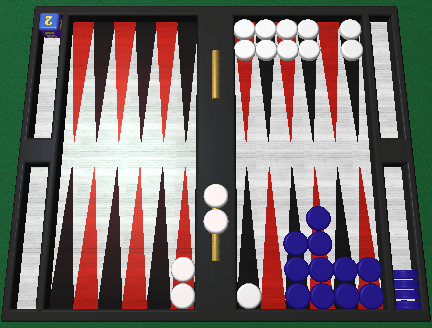bar: (196, 7, 234, 321)
checker_blue: (333, 282, 360, 309), (310, 281, 334, 309), (357, 257, 381, 282), (307, 205, 331, 230), (308, 230, 332, 255), (357, 283, 381, 308), (285, 258, 309, 282), (309, 257, 333, 281), (286, 284, 310, 308), (284, 231, 308, 255), (332, 257, 357, 280), (394, 288, 418, 299), (393, 278, 419, 287), (392, 269, 418, 277), (395, 301, 419, 308)
checker_white: (236, 283, 262, 309), (203, 209, 228, 234), (203, 184, 228, 208), (171, 284, 195, 308), (171, 257, 195, 281), (254, 38, 278, 62), (339, 17, 363, 40), (340, 40, 364, 61), (298, 38, 320, 60), (233, 38, 255, 59), (233, 18, 255, 39), (255, 18, 276, 39), (277, 39, 299, 59), (277, 18, 297, 39), (298, 19, 319, 39)
endbox: (7, 160, 50, 311), (381, 161, 419, 309), (364, 12, 403, 140), (27, 12, 61, 142)
point: (74, 166, 99, 307), (333, 167, 356, 309), (308, 166, 331, 308), (285, 166, 308, 308), (261, 167, 284, 309), (237, 167, 260, 309), (173, 165, 196, 307), (147, 166, 170, 308), (123, 166, 146, 308), (99, 167, 122, 309), (52, 167, 74, 308), (357, 165, 378, 307), (71, 22, 93, 142), (113, 21, 135, 141), (155, 21, 177, 141), (134, 20, 156, 140), (93, 22, 113, 141), (178, 21, 198, 140), (234, 21, 254, 140), (255, 21, 275, 140), (276, 21, 296, 140), (297, 20, 317, 139), (318, 20, 338, 139), (340, 21, 360, 140)
